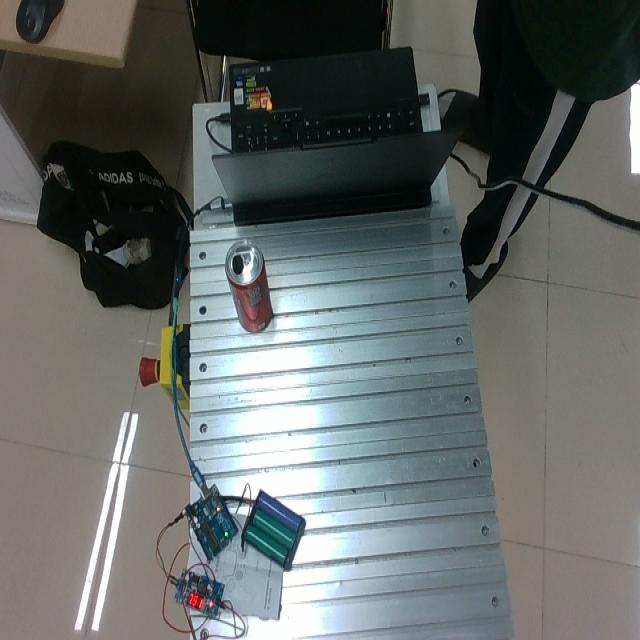coca: (224, 239, 273, 333)
